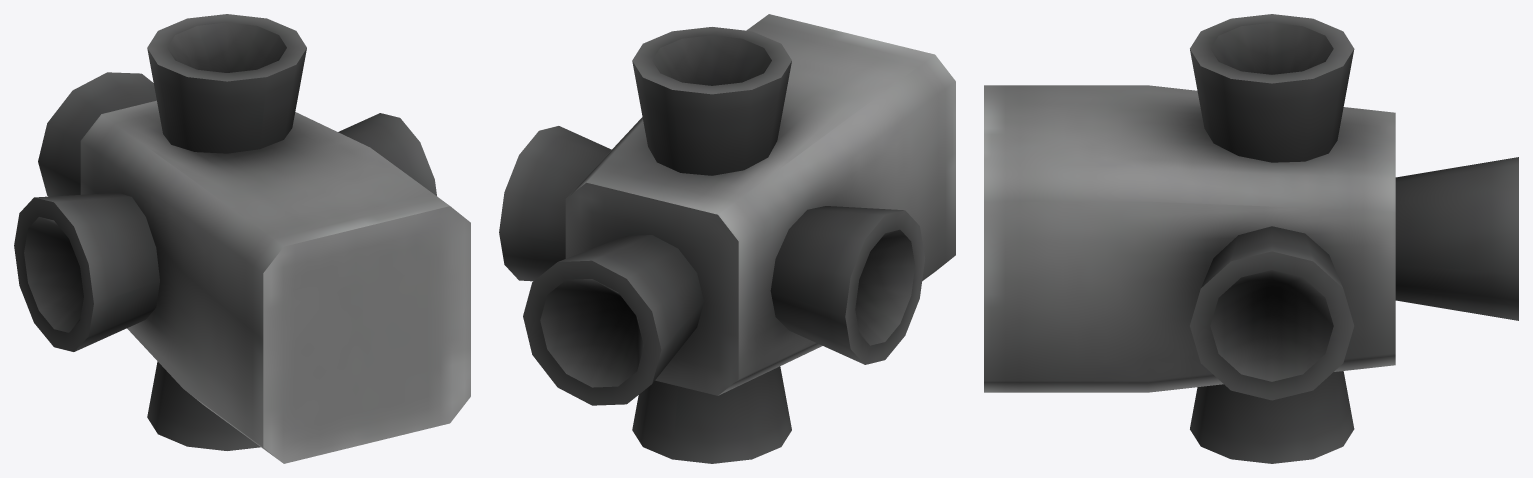
Rendered from octans_rcs_srf_4_extended.obj.
3 renders of one model, left to right at view 1: azimuth 30°, elevation 25°; view 2: azimuth 150°, elevation 25°; view 3: azimuth 270°, elevation 25°, orthographic. The views are drawn at different scales.
Parts seen in each view (by area): view 1: mesh; view 2: mesh; view 3: mesh.
Part boxes in pixels (box(x1,y1,x2,y2)): mesh: box(14, 14, 470, 463); mesh: box(499, 14, 955, 463); mesh: box(984, 14, 1518, 463).
Size of the model in its own units: 0.125 by 0.1275 by 0.1625.
1 material, 1 textured.
